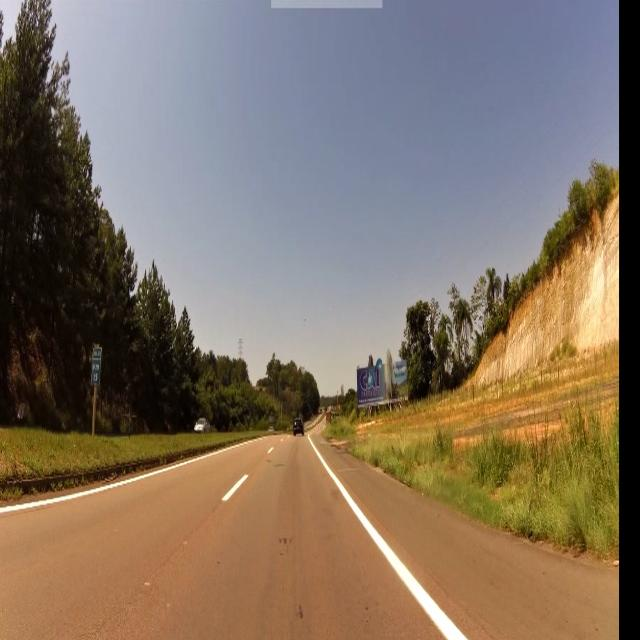RQ: (92, 343, 102, 386)
